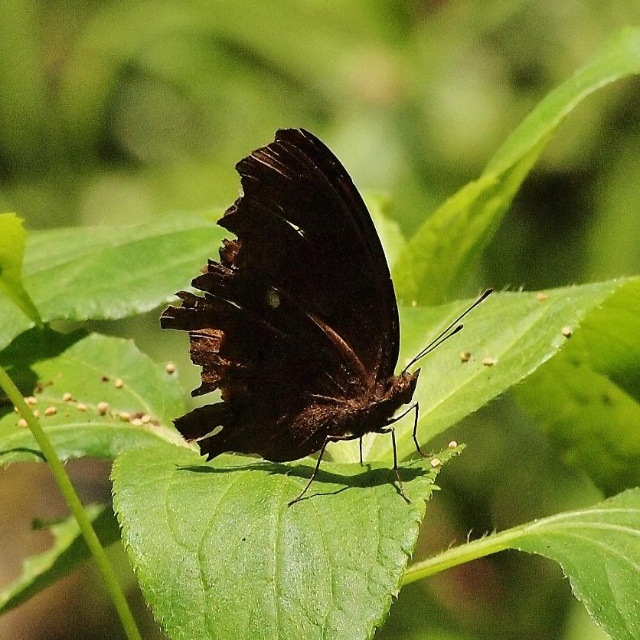Butterfly: (161, 126, 493, 506)
